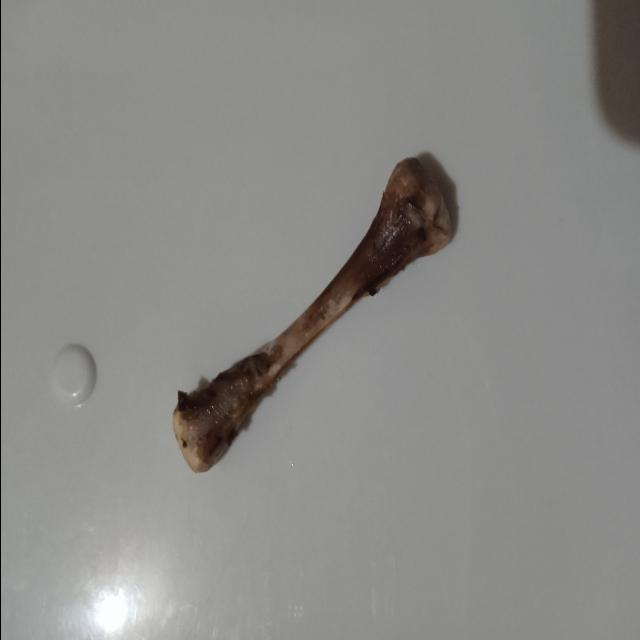bone: (164, 153, 457, 481)
